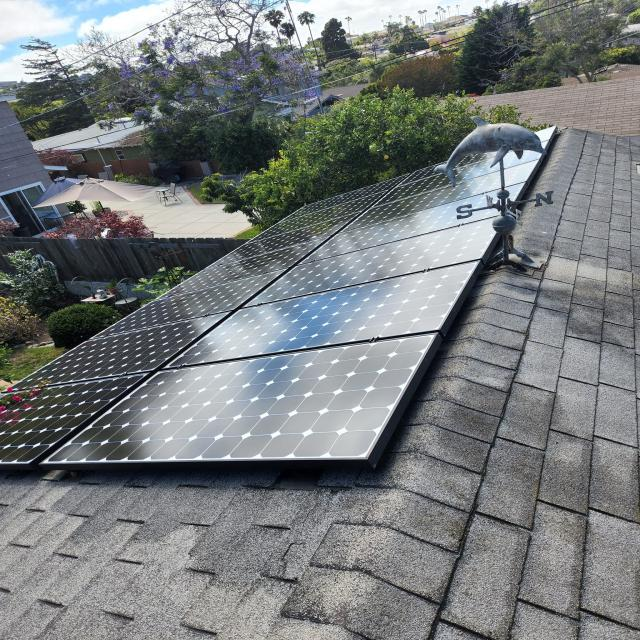clean-solar-panel: (0, 155, 500, 469)
